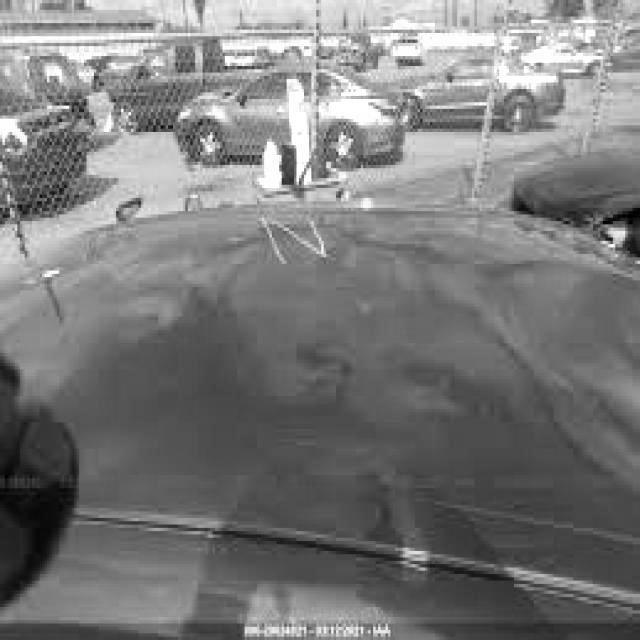roof-dent: (254, 212, 636, 538)
